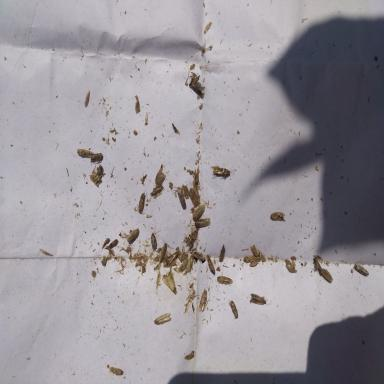pbw: (183, 75, 205, 94), (162, 268, 176, 293), (351, 260, 369, 278), (119, 227, 140, 242), (198, 287, 210, 312), (173, 186, 186, 208), (211, 166, 234, 178), (249, 292, 272, 304), (192, 202, 206, 221), (184, 229, 198, 248), (92, 164, 104, 184), (137, 188, 146, 213), (155, 164, 165, 185), (154, 312, 171, 324), (228, 299, 238, 319), (206, 254, 215, 276), (217, 275, 233, 287), (312, 257, 322, 276), (320, 268, 333, 282), (194, 217, 210, 228), (190, 251, 205, 262), (193, 180, 200, 203), (270, 212, 286, 222), (77, 148, 94, 157), (189, 188, 197, 207), (108, 366, 124, 375), (186, 256, 195, 272), (150, 186, 163, 196), (107, 238, 118, 249), (91, 152, 103, 162), (243, 255, 260, 262), (219, 244, 225, 262), (182, 184, 189, 199), (151, 232, 157, 249), (176, 246, 182, 262), (250, 245, 257, 256), (195, 167, 199, 182)
